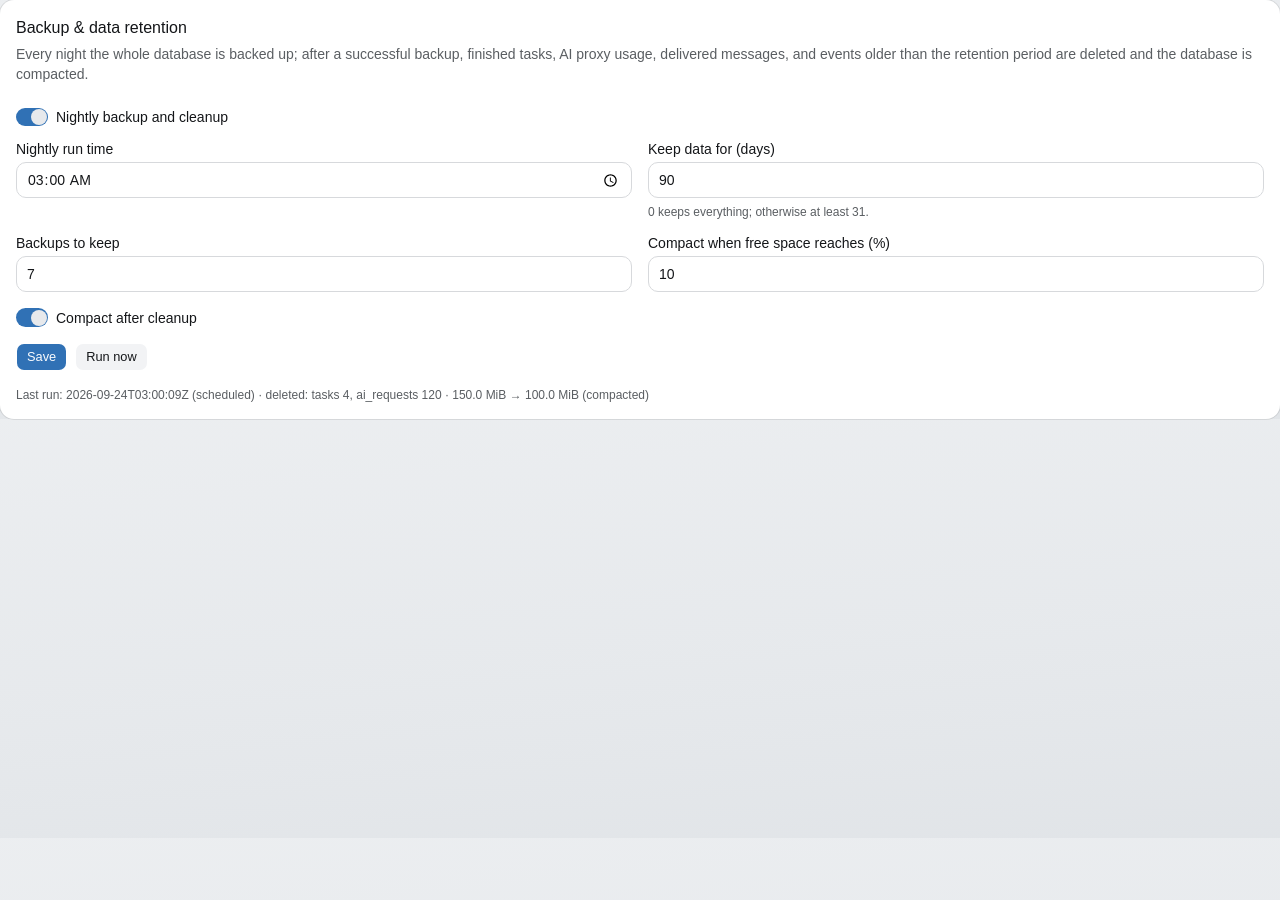
Test case: MaintenanceSettingsCard › runs only saved settings
Replace the text in the field labelled "Backups to keep" with "3": x=324, y=274 [16,256,632,292]
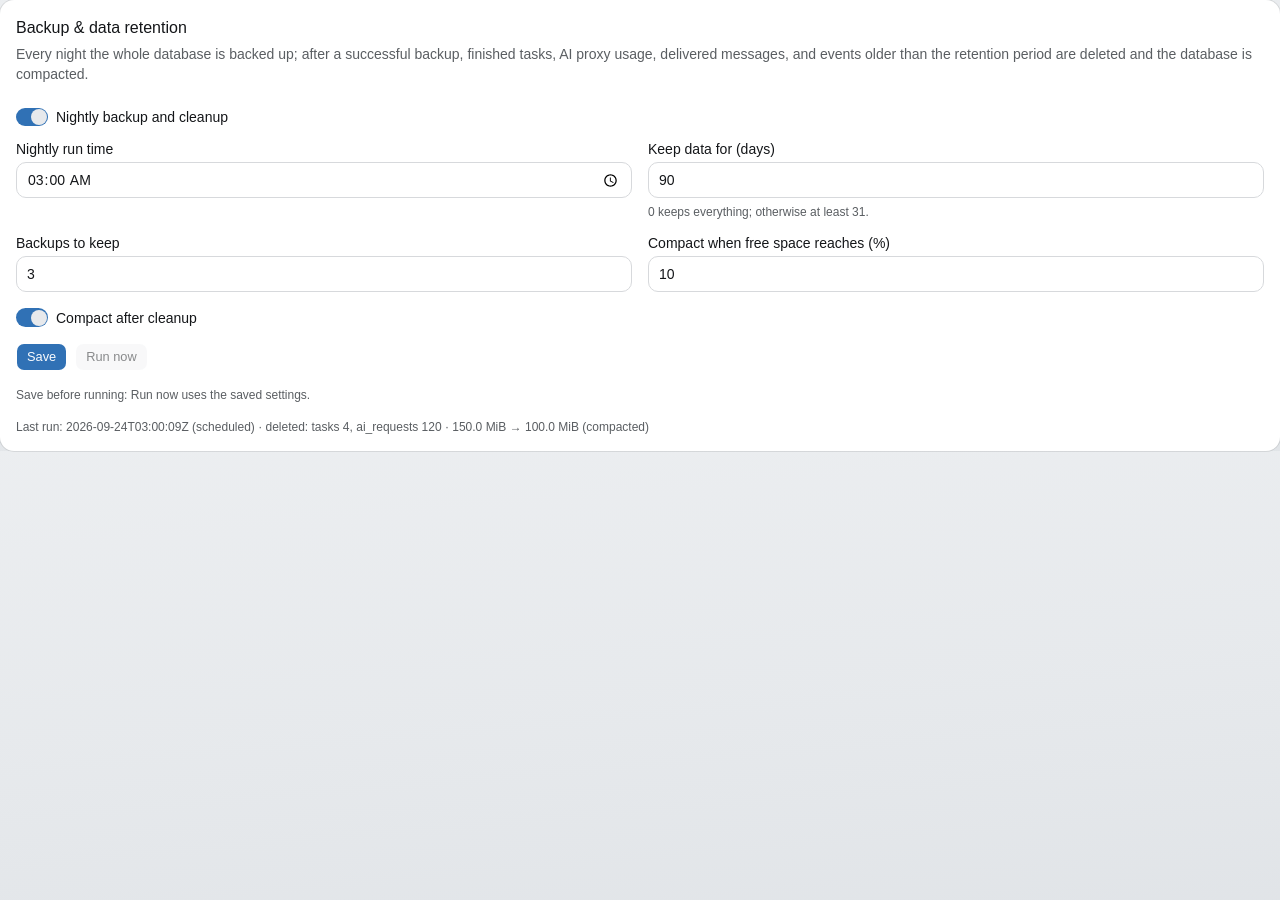
Check: the button "Run now" is disabled, box [75,343,148,371]
